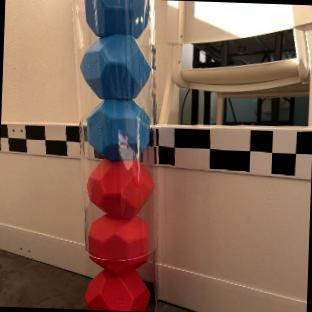Loader: (76, 0, 160, 311)
V5_BLUE: (80, 0, 152, 160), (81, 32, 149, 100), (87, 99, 150, 159)
V5_RED: (87, 158, 153, 218), (88, 212, 149, 271), (86, 267, 149, 311)
